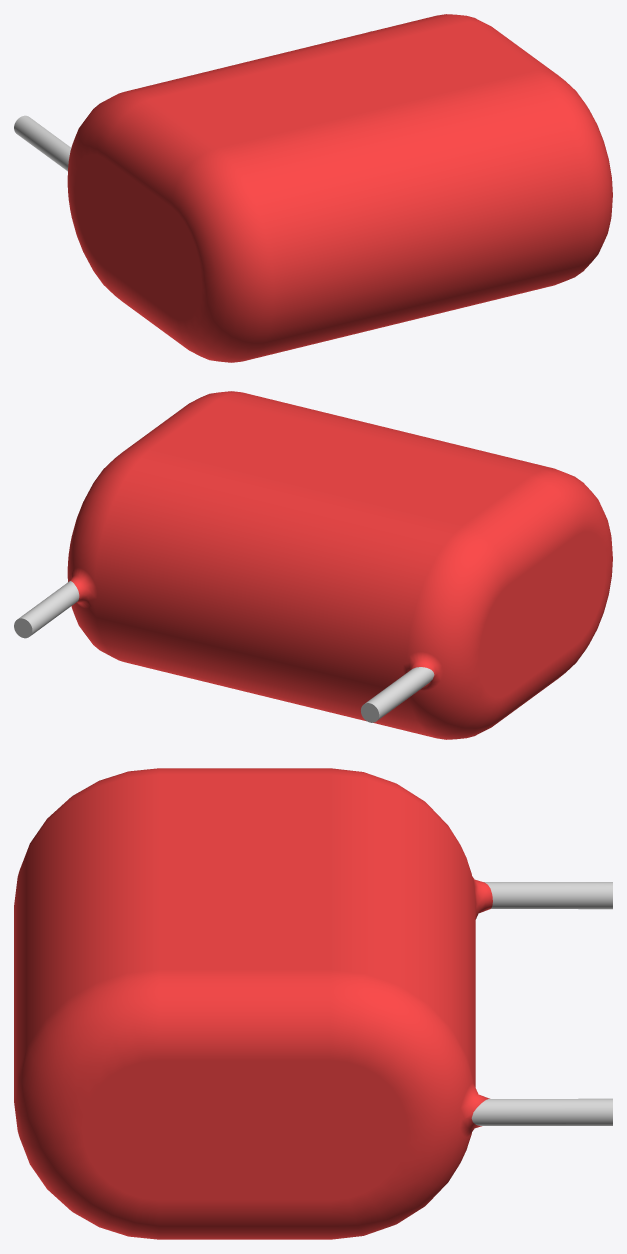
The model's file is XIAMEN_FARATRONIC_C232A475J6SC000.3dmodel.glb.
The picture shows the model from 3 angles, top to bottom: view 1: azimuth 30°, elevation 25°; view 2: azimuth 150°, elevation 25°; view 3: azimuth 270°, elevation 25°; orthographic projection. The views are drawn at different scales.
Visible parts, largest first — view 1: =>[0:1:1:1]; view 2: =>[0:1:1:1]; view 3: =>[0:1:1:1].
Part boxes in pixels (x1,y1,x2,y2): =>[0:1:1:1]: (14,14,612,362); =>[0:1:1:1]: (14,391,612,739); =>[0:1:1:1]: (14,768,612,1239).
Size of the model in its own units: 17.5 by 8.5 by 17.51.
